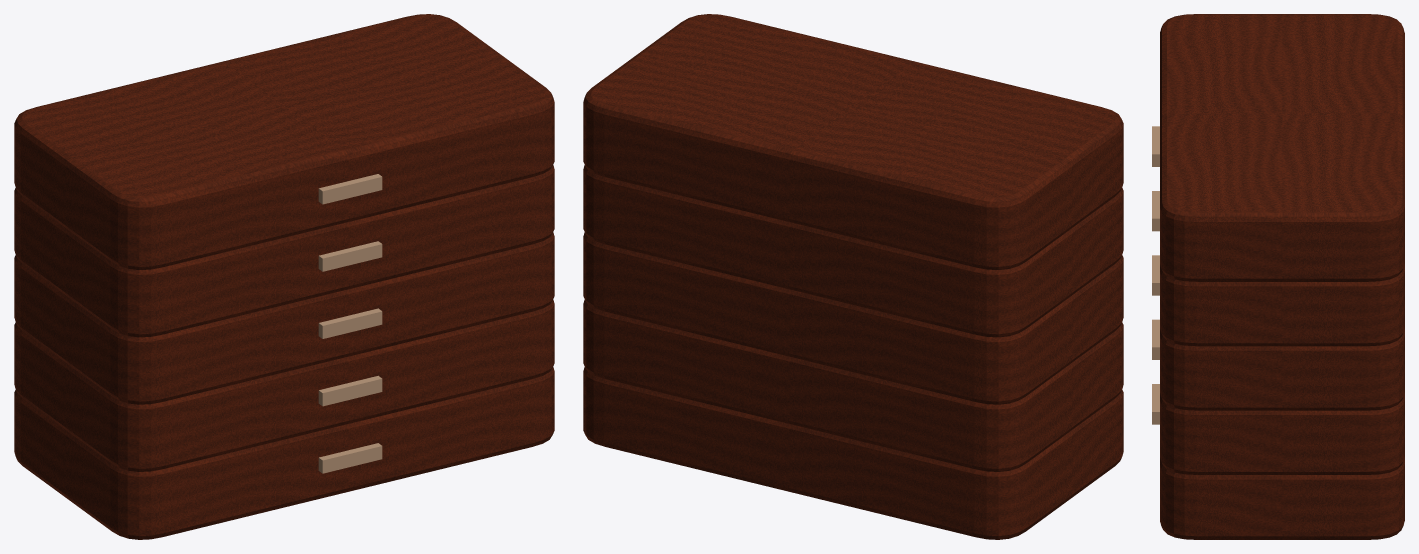
File: sample_drawer.glb
3 renders of one model, left to right at view 1: azimuth 30°, elevation 25°; view 2: azimuth 150°, elevation 25°; view 3: azimuth 270°, elevation 25°, orthographic. The views are drawn at different scales.
Visible parts, largest first — view 1: sample_drawer; view 2: sample_drawer; view 3: sample_drawer.
Part boxes in pixels (x1=…): sample_drawer: x1=14, y1=14, x2=554, y2=539; sample_drawer: x1=583, y1=14, x2=1123, y2=539; sample_drawer: x1=1152, y1=14, x2=1404, y2=539.
Bounding box in the file's own units: 1.91 × 1.42 × 0.9965.
Materials: 2 (1 with a texture image).
